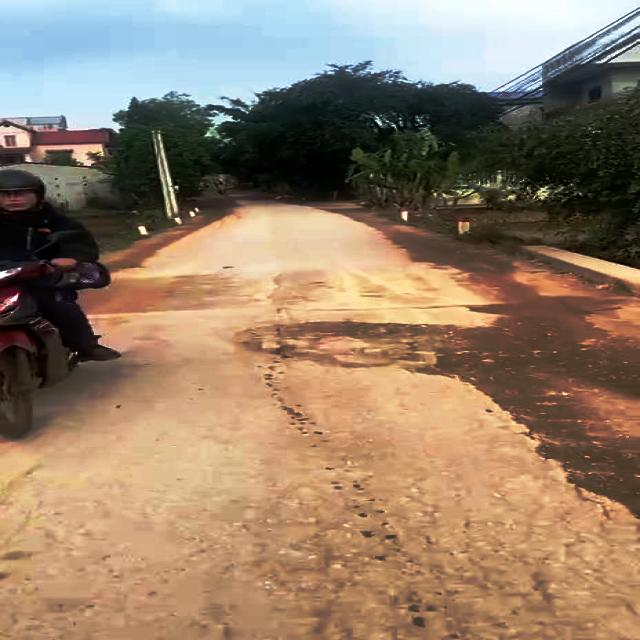pothole: (238, 319, 512, 372)
